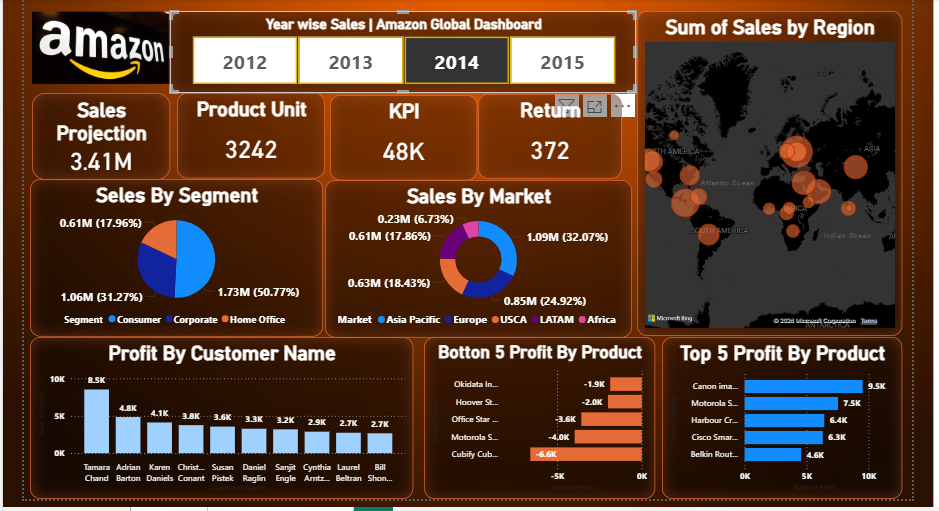

Layout of this report page (visuals, bound fields, positions):
{"tool":"powerbi","page":{"name":"Page 1","canvas":[1280,720],"ordinal":0},"visuals":[{"type":"slicer","title":"Year wise Sales | Amazon Global Dashboard","fields":{"Values":["Orders.Year"]},"box":[210,16.8,671.9,119.3],"z":0},{"type":"card","title":"Product Unit","fields":{"Values":["Count(Orders.Product Name)"]},"box":[220.1,136.1,213.3,122.6],"z":1000},{"type":"image","box":[11.8,16.8,196.5,105.8],"z":2000},{"type":"card","title":"Sales Projection","fields":{"Values":["Sum(Orders.Sales)"]},"box":[11.5,135.4,198.7,125.3],"z":3000},{"type":"card","title":"KPI","fields":{"Values":["Sum(Orders.Quantity)"]},"box":[440.1,137.7,211.7,122.6],"z":4000},{"type":"card","title":"Return","fields":{"Values":["Count(Orders.Ship Date)"]},"box":[653.8,136.8,207.4,122.4],"z":5000},{"type":"pieChart","title":"Seles By Segment","fields":{"Y":["Sum(Orders.Sales)"],"Category":["Orders.Segment"]},"box":[8.4,258.7,421.6,226.8],"z":6000},{"type":"donutChart","title":"Sales By Market","fields":{"Y":["Sum(Orders.Sales)"],"Category":["Orders.Market"]},"box":[433.4,260.4,441.8,226.8],"z":7000},{"type":"columnChart","title":"Profit By Customer Name","fields":{"Category":["Orders.Customer Name"],"Y":["Sum(Orders.Profit)"]},"box":[8.6,486.7,551.5,233.3],"z":8000},{"type":"clusteredBarChart","title":" Top 5 Profit By Product ","fields":{"Category":["Orders.Product Name"],"Y":["Sum(Orders.Profit)"]},"box":[918.7,486.7,345.6,233.3],"z":9000},{"type":"clusteredBarChart","title":"Botton 5 Profit By Product","fields":{"Category":["Orders.Product Name"],"Y":["Sum(Orders.Profit)"]},"box":[576,486.7,332.6,233.3],"z":10000},{"type":"map","fields":{"Category":["Orders.Region"],"Size":["Sum(Orders.Sales)"]},"box":[882.7,17.3,381.6,468],"z":10001}]}

Visuals, with their boxes on the page's 1280x720 design canvas (x1, y1, x2, y2). These are canvas units, not pixel positions in the 939x511 screenshot, which may show the page scaled, cropped or inside an application window:
"Year wise Sales | Amazon Global Dashboard" slicer: 210,17,882,136
"Product Unit" card: 220,136,433,259
image: 12,17,208,123
"Sales Projection" card: 12,135,210,261
"KPI" card: 440,138,652,260
"Return" card: 654,137,861,259
"Seles By Segment" pieChart: 8,259,430,486
"Sales By Market" donutChart: 433,260,875,487
"Profit By Customer Name" columnChart: 9,487,560,720
" Top 5 Profit By Product " clusteredBarChart: 919,487,1264,720
"Botton 5 Profit By Product" clusteredBarChart: 576,487,909,720
map - Orders.Region x Sum(Orders.Sales): 883,17,1264,485
